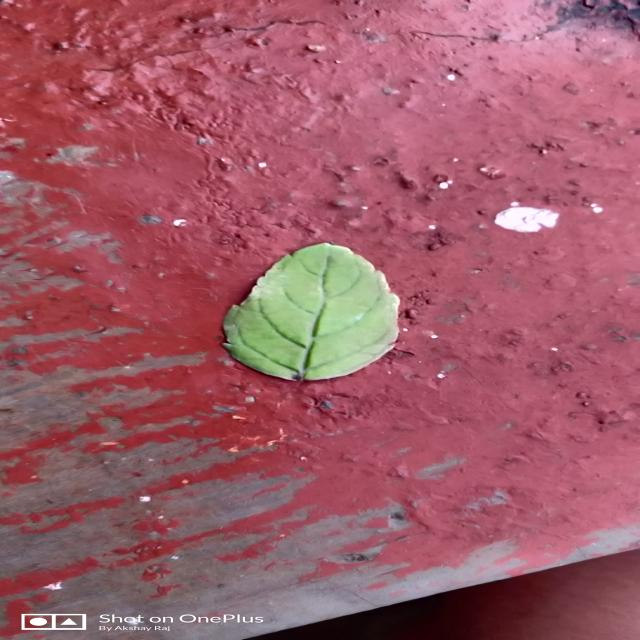tulsi: (222, 244, 400, 380)
